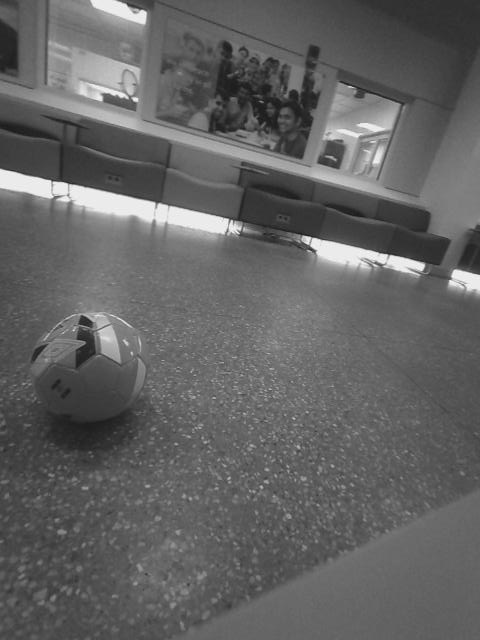ball: (216, 410, 263, 453)
